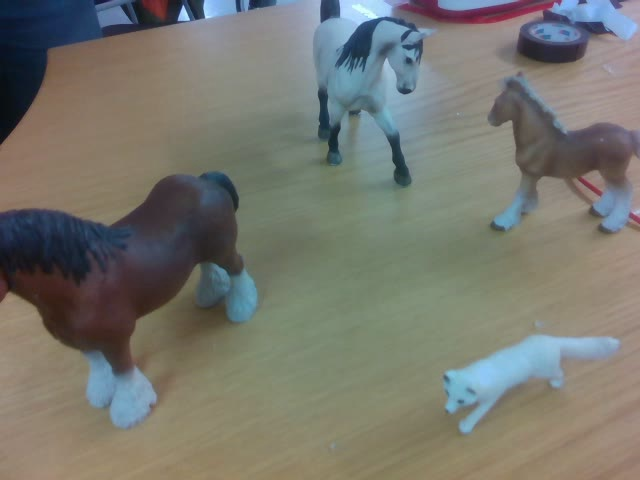toy: (490, 72, 640, 235), (312, 1, 432, 186), (443, 333, 621, 435)
